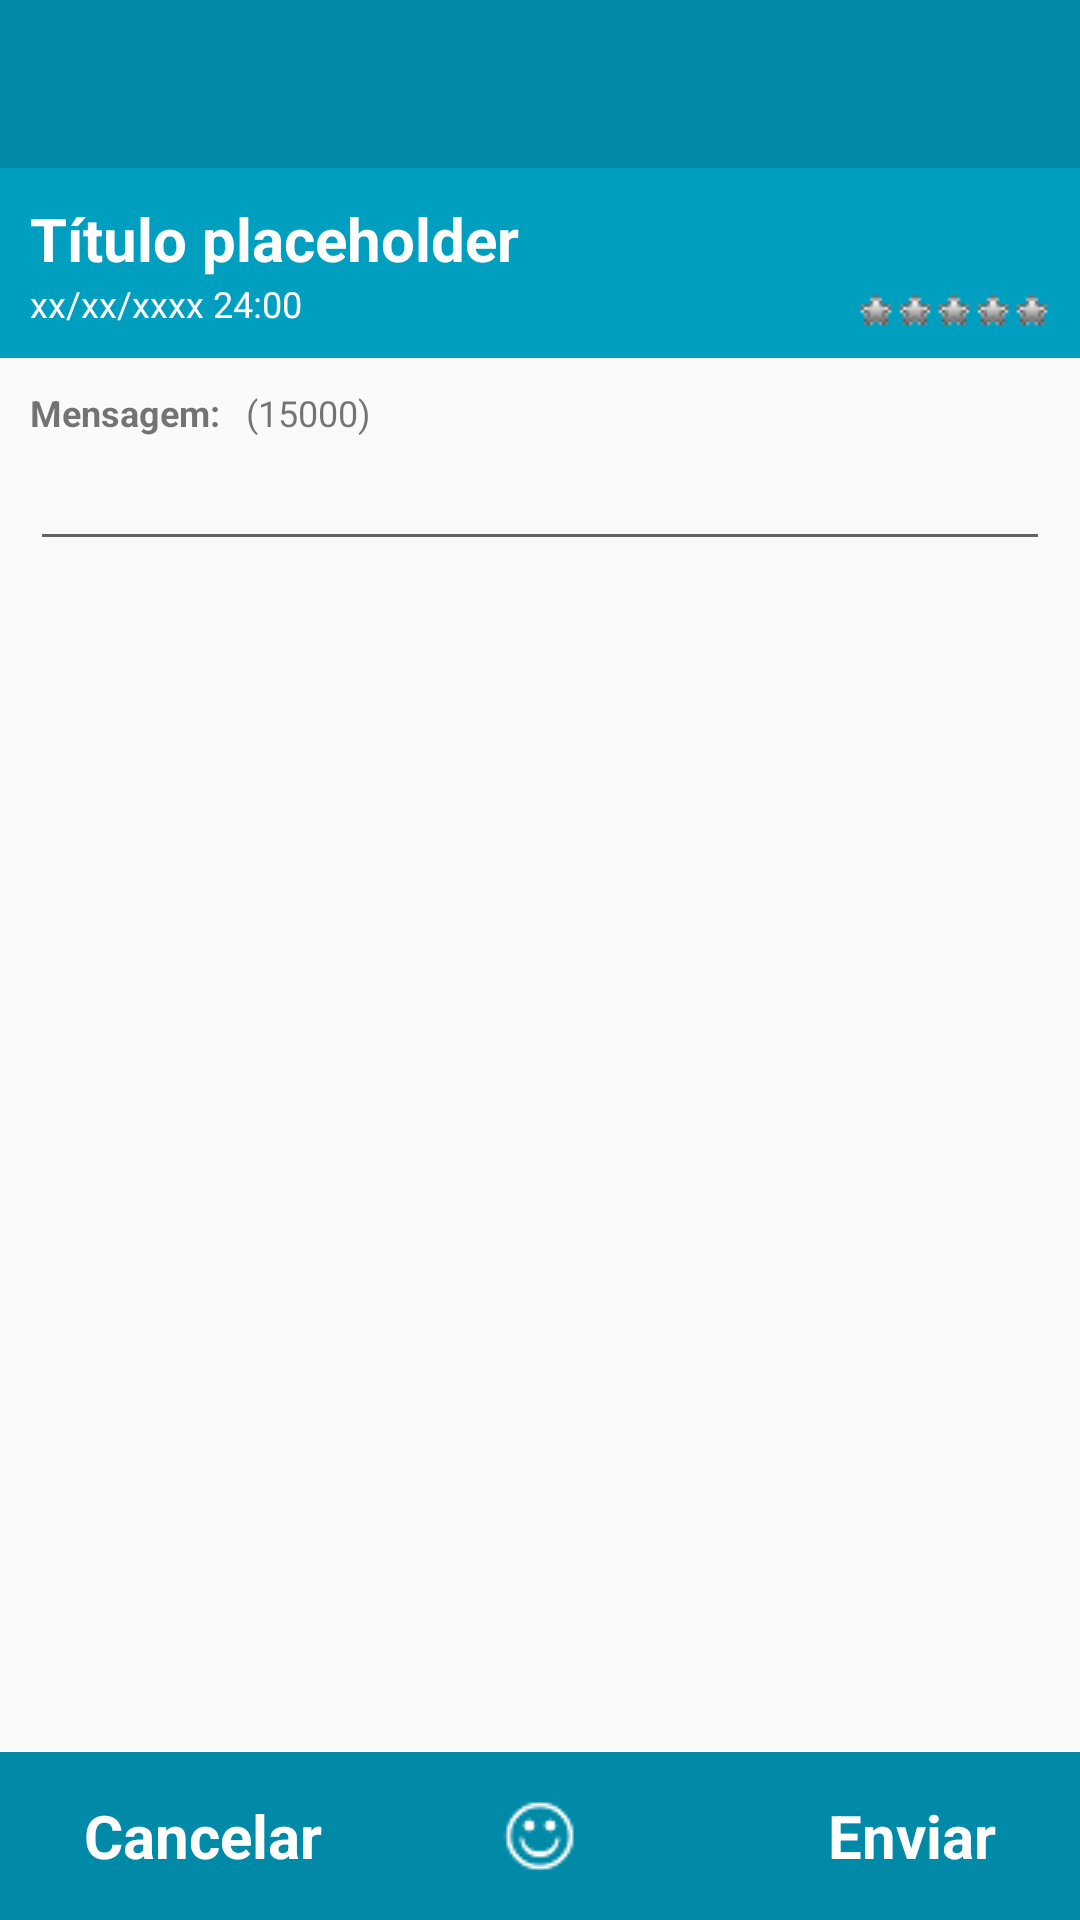

Screen size 1080w x 1920h. Icon name, then its box in pixels as [x1,y1,x2,y2]:
emoticon: [504,1802,574,1870]
star: [860,294,1048,326]
